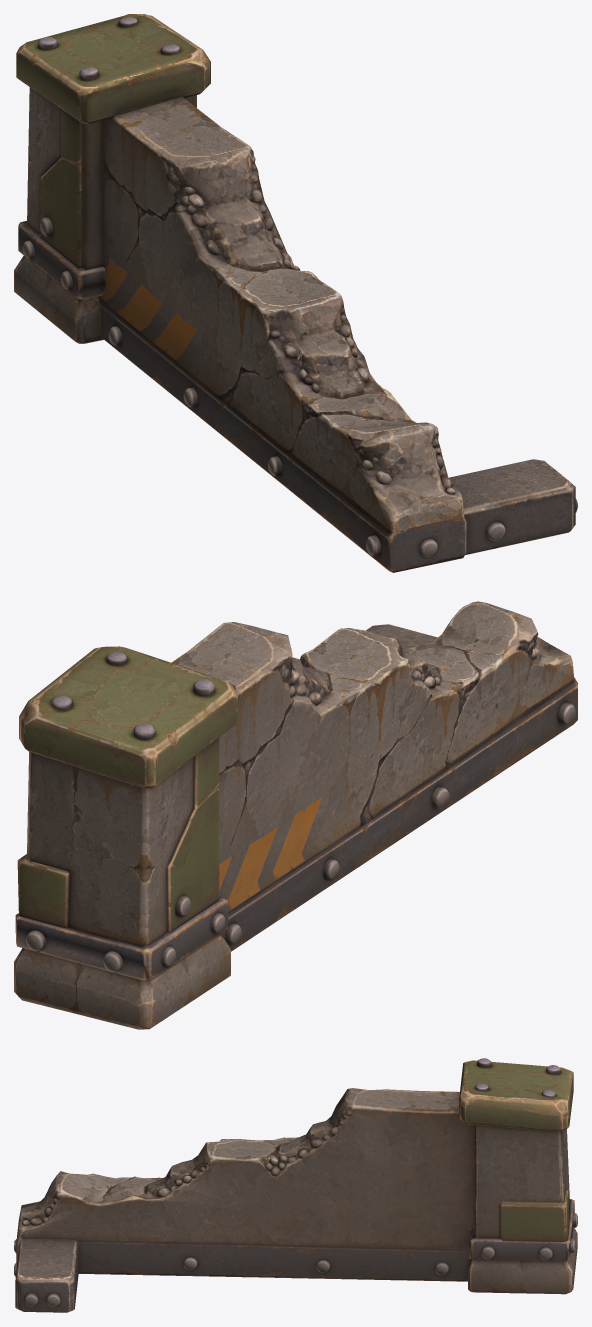
File: rockwall.fbx
3 renders of one model, top to bottom at view 1: azimuth 30°, elevation 25°; view 2: azimuth 150°, elevation 25°; view 3: azimuth 270°, elevation 25°, orthographic. The views are drawn at different scales.
Visible parts, largest first — view 1: tripo_4ed91019_9624_4b91_99fd_42c82c471556; view 2: tripo_4ed91019_9624_4b91_99fd_42c82c471556; view 3: tripo_4ed91019_9624_4b91_99fd_42c82c471556.
Part boxes in pixels (x1=…): tripo_4ed91019_9624_4b91_99fd_42c82c471556: x1=14, y1=14, x2=577, y2=572; tripo_4ed91019_9624_4b91_99fd_42c82c471556: x1=14, y1=601, x2=577, y2=1029; tripo_4ed91019_9624_4b91_99fd_42c82c471556: x1=14, y1=1058, x2=577, y2=1312.
Size of the model in its own units: 179 by 233 by 600.
Materials: 1 (1 with a texture image).
